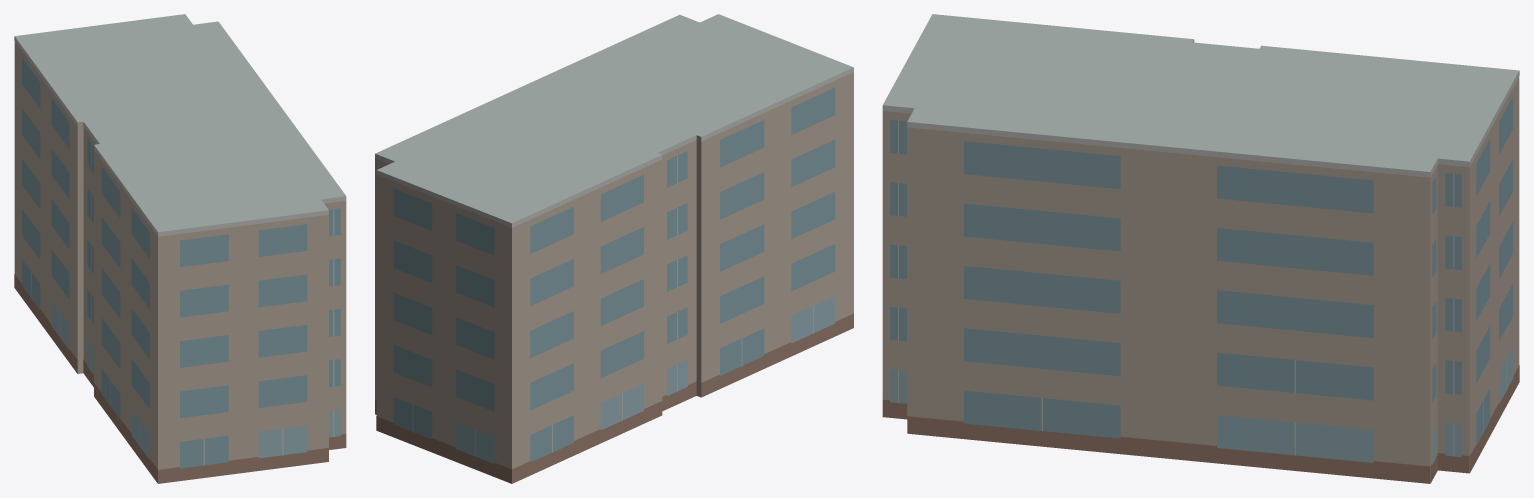
Rendered from survey-upis-32975874.glb.
The picture shows the model from 3 angles, left to right: view 1: azimuth 30°, elevation 25°; view 2: azimuth 150°, elevation 25°; view 3: azimuth 270°, elevation 25°; orthographic projection. The views are drawn at different scales.
Parts seen in each view (by area): view 1: survey-upis-32975874.tmp; view 2: survey-upis-32975874.tmp; view 3: survey-upis-32975874.tmp.
Boxes of the visible parts, bbox=[...] form: survey-upis-32975874.tmp: bbox=[14, 14, 346, 483]; survey-upis-32975874.tmp: bbox=[375, 14, 853, 483]; survey-upis-32975874.tmp: bbox=[882, 14, 1519, 483].
Bounding box in the file's own units: 14.8 × 13.6 × 25.18.
